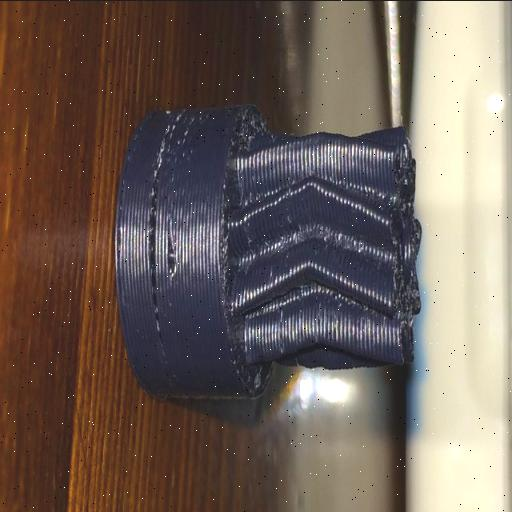cracks: (139, 173, 173, 339)
